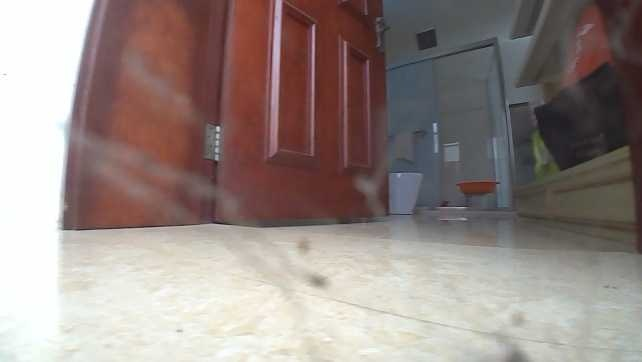door_anno: (59, 1, 394, 228)
toilet: (385, 170, 425, 215)
